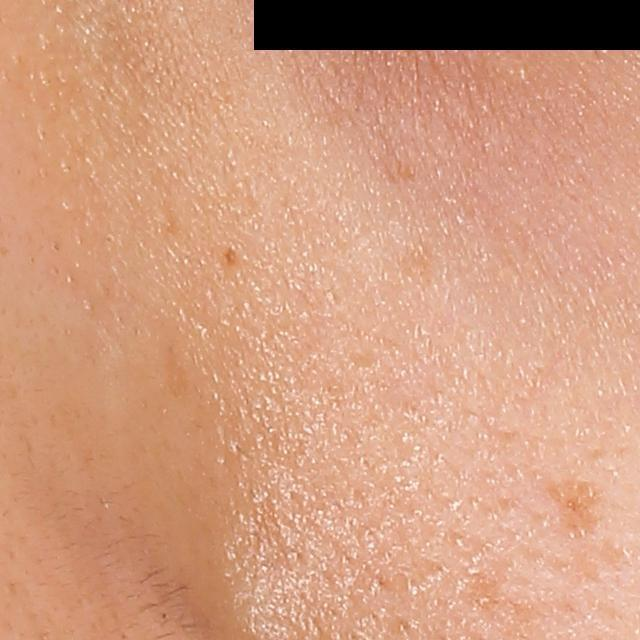melasma: (547, 480, 607, 535), (400, 239, 443, 288)
